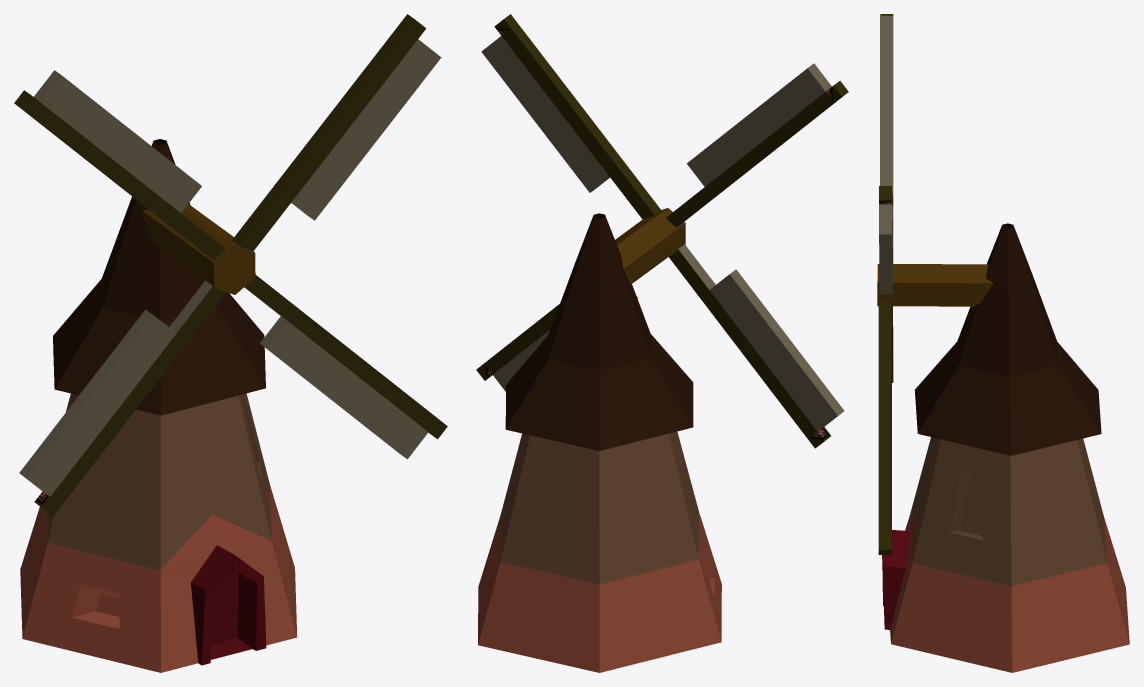
File: Mill_Separate_LowPoly.fbx
3 views of the same model, side by side, from view 1: azimuth 30°, elevation 25°; view 2: azimuth 150°, elevation 25°; view 3: azimuth 270°, elevation 25° (orthographic). The views are drawn at different scales.
Visible parts, largest first — view 1: Moinho, Moinho.001, Moinho.002, Moinho.004, Moinho.005, Base; view 2: Moinho, Moinho.001, Moinho.002, Moinho.004, Base, Moinho.005; view 3: Moinho, Base, Moinho.005, Moinho.004, Moinho.001.
Part boxes in pixels (x1,y1,x2,y2): Moinho: (20, 139, 297, 672); Moinho.001: (232, 14, 441, 251); Moinho.002: (19, 280, 226, 516); Moinho.004: (14, 70, 225, 259); Moinho.005: (244, 275, 447, 459); Base: (142, 204, 255, 294); Moinho: (478, 213, 721, 672); Moinho.001: (481, 14, 660, 219); Moinho.002: (669, 244, 844, 448); Moinho.004: (666, 63, 848, 227); Base: (615, 208, 685, 284); Moinho.005: (476, 296, 637, 391); Moinho: (882, 223, 1129, 672); Base: (877, 264, 993, 306); Moinho.005: (878, 301, 891, 554); Moinho.004: (880, 14, 893, 263); Moinho.001: (879, 186, 892, 294).
Size of the model in its own units: 301 by 423 by 183.
